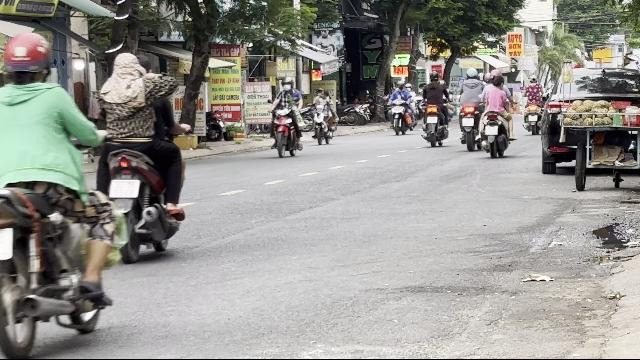helmet: (0, 32, 54, 84), (112, 50, 144, 90), (281, 77, 293, 89)
licenseplate: (109, 180, 137, 197)
motorcyclist: (0, 28, 124, 356), (92, 47, 188, 260), (267, 77, 305, 158)
